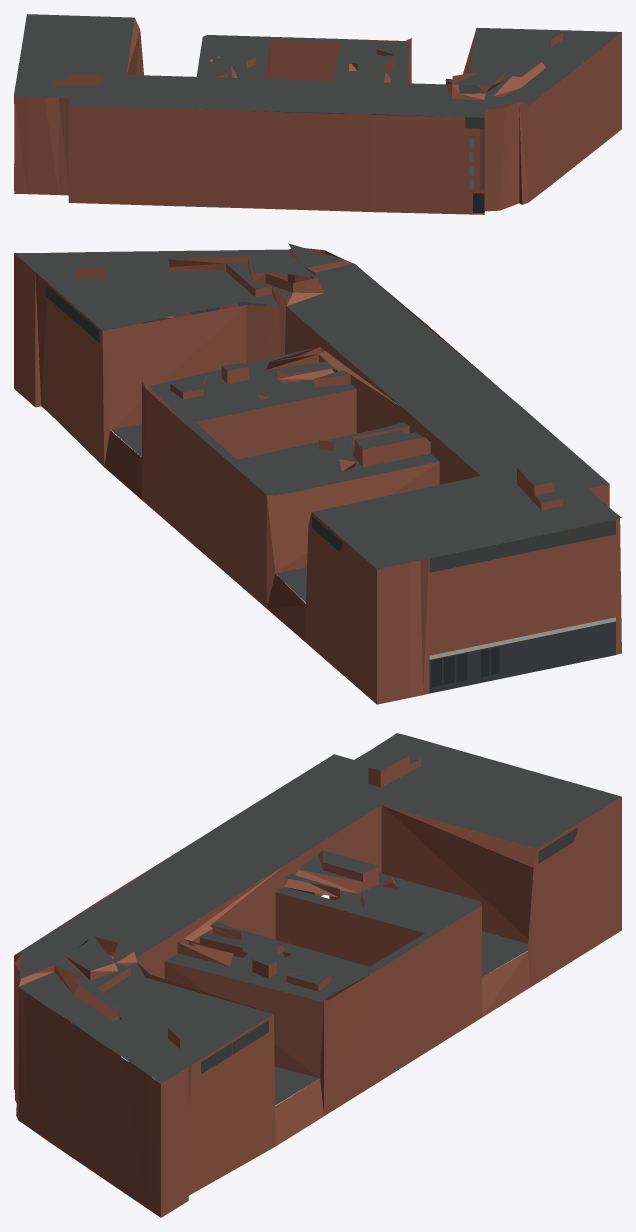
File: jodenbreestraat-11.lod1.glb
3 views of the same model, one above another, from view 1: azimuth 30°, elevation 25°; view 2: azimuth 150°, elevation 25°; view 3: azimuth 270°, elevation 25° (orthographic). The views are drawn at different scales.
Visible parts, largest first — view 1: jodenbreestraat-11; view 2: jodenbreestraat-11; view 3: jodenbreestraat-11.
Boxes of the visible parts, box(x1,y1,x2,y2) form: jodenbreestraat-11: box(14, 14, 621, 214); jodenbreestraat-11: box(14, 243, 621, 704); jodenbreestraat-11: box(14, 733, 621, 1217).
Bounding box in the file's own units: 129 × 25.9 × 94.1.
